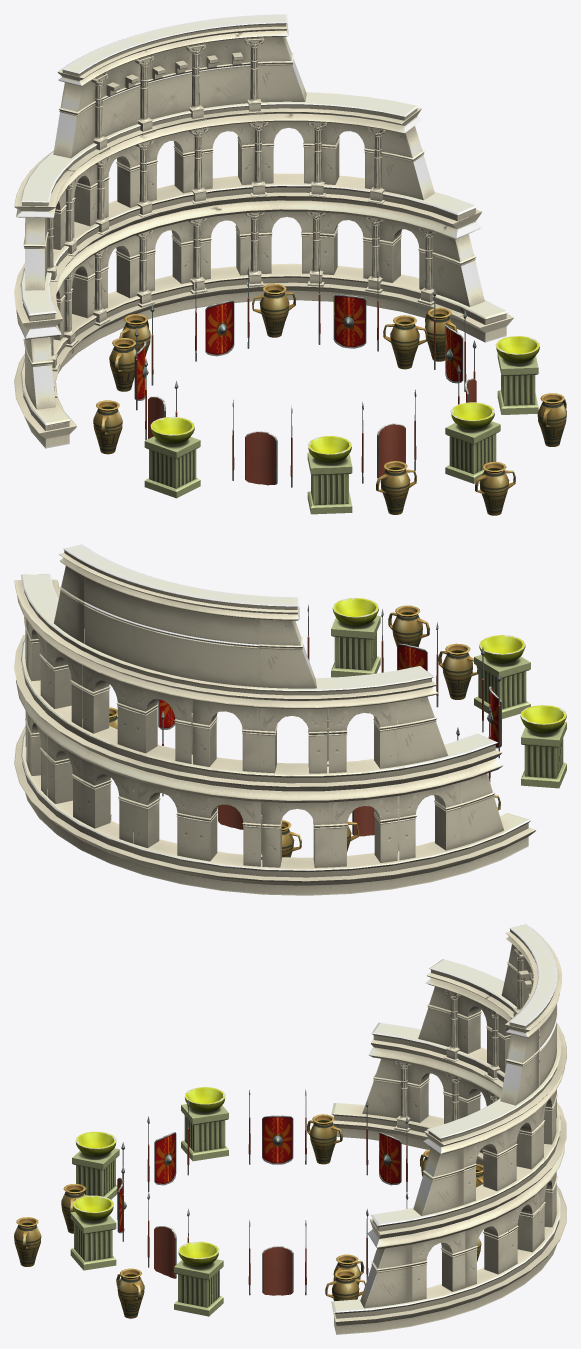
Rendered from SM_Coliseum.fbx.
The picture shows the model from 3 angles, top to bottom: view 1: azimuth 30°, elevation 25°; view 2: azimuth 150°, elevation 25°; view 3: azimuth 270°, elevation 25°; orthographic projection. The views are drawn at different scales.
Visible parts, largest first — view 1: polySurface2; view 2: polySurface2; view 3: polySurface2.
Part boxes in pixels (x1,y1,x2,y2): polySurface2: (14, 14, 566, 515); polySurface2: (14, 544, 566, 895); polySurface2: (14, 924, 566, 1334).
Bounding box in the file's own units: 36.19 × 20.91 × 39.36.
2 materials, 2 textured.
